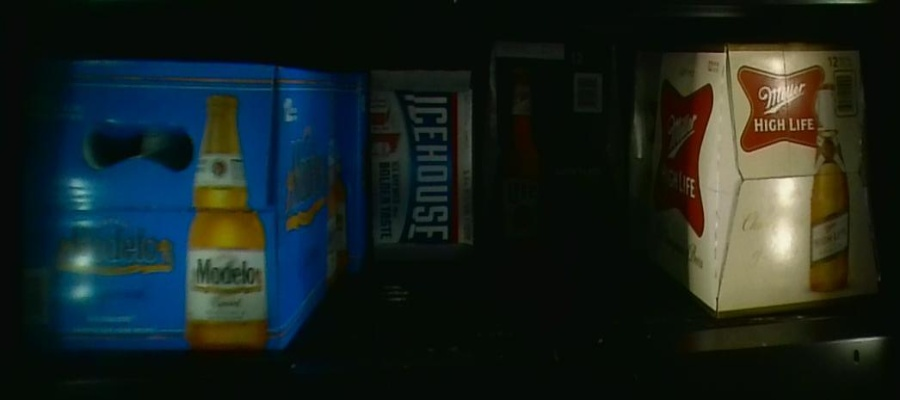bottle: (16, 65, 344, 338), (633, 43, 875, 301), (486, 41, 620, 257), (369, 71, 471, 261)
